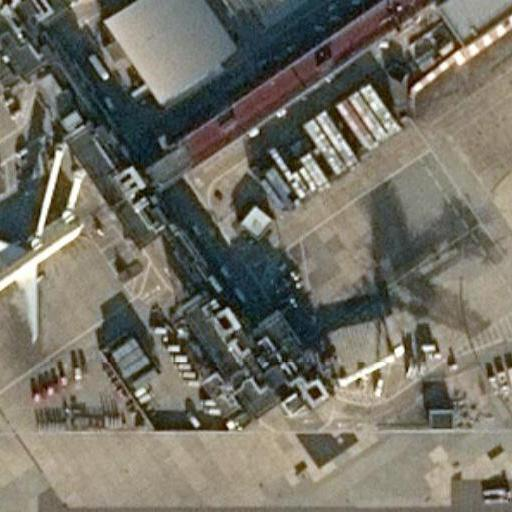Aircraft: (0, 212, 89, 342)
